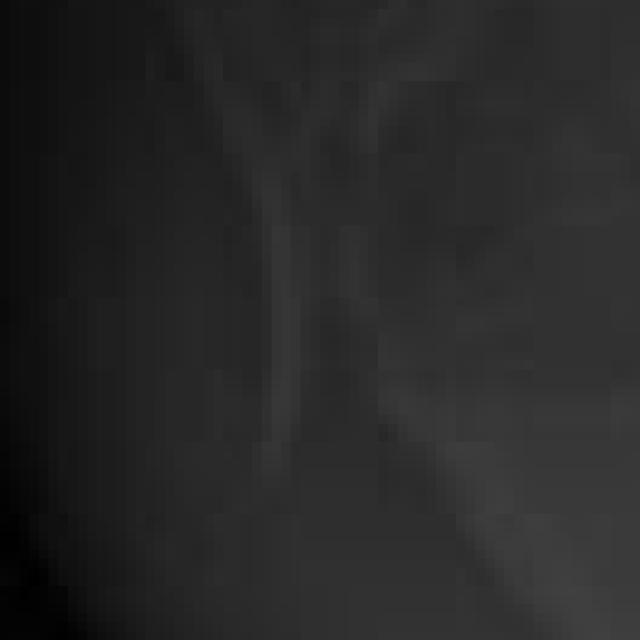fracture: (12, 2, 640, 640)
